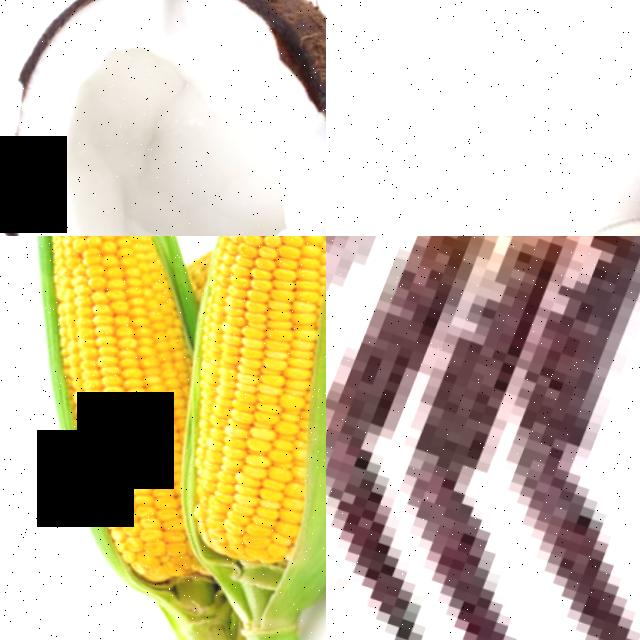coconut: (0, 0, 326, 236)
corn: (12, 310, 257, 577), (143, 310, 326, 573), (7, 236, 227, 347), (179, 236, 326, 364)
crab: (326, 236, 640, 539)
